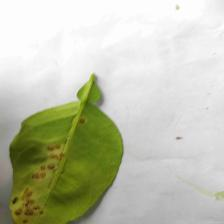canker: (27, 129, 70, 218)
